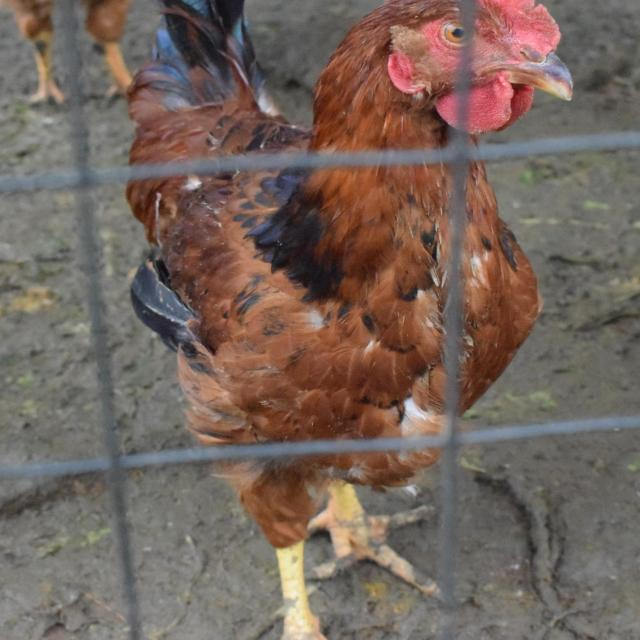cook: (127, 165, 451, 444), (128, 0, 465, 164), (225, 449, 440, 639), (461, 162, 540, 410), (465, 0, 572, 141)
